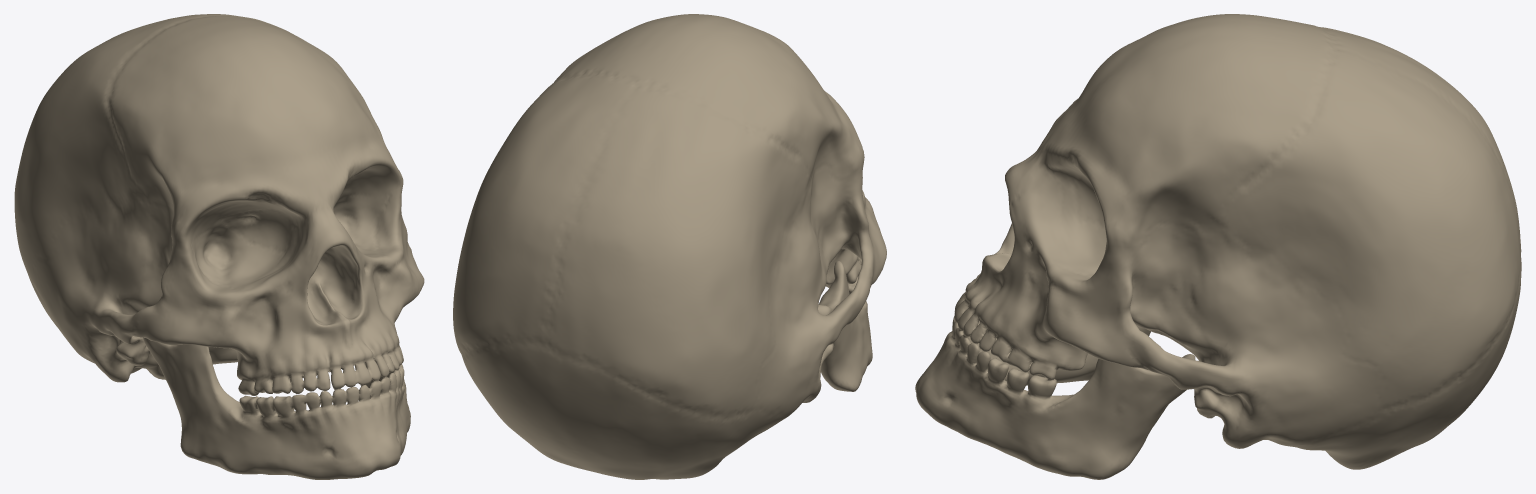
Rendered from Skull.glb.
The picture shows the model from 3 angles, left to right: view 1: azimuth 30°, elevation 25°; view 2: azimuth 150°, elevation 25°; view 3: azimuth 270°, elevation 25°; orthographic projection. The views are drawn at different scales.
Parts seen in each view (by area): view 1: Skull; view 2: Skull; view 3: Skull.
Part boxes in pixels (x1=…): Skull: x1=14, y1=14, x2=424, y2=479; Skull: x1=453, y1=14, x2=886, y2=479; Skull: x1=915, y1=14, x2=1521, y2=479.
Bounding box in the file's own units: 0.2042 × 0.2528 × 0.3394.
